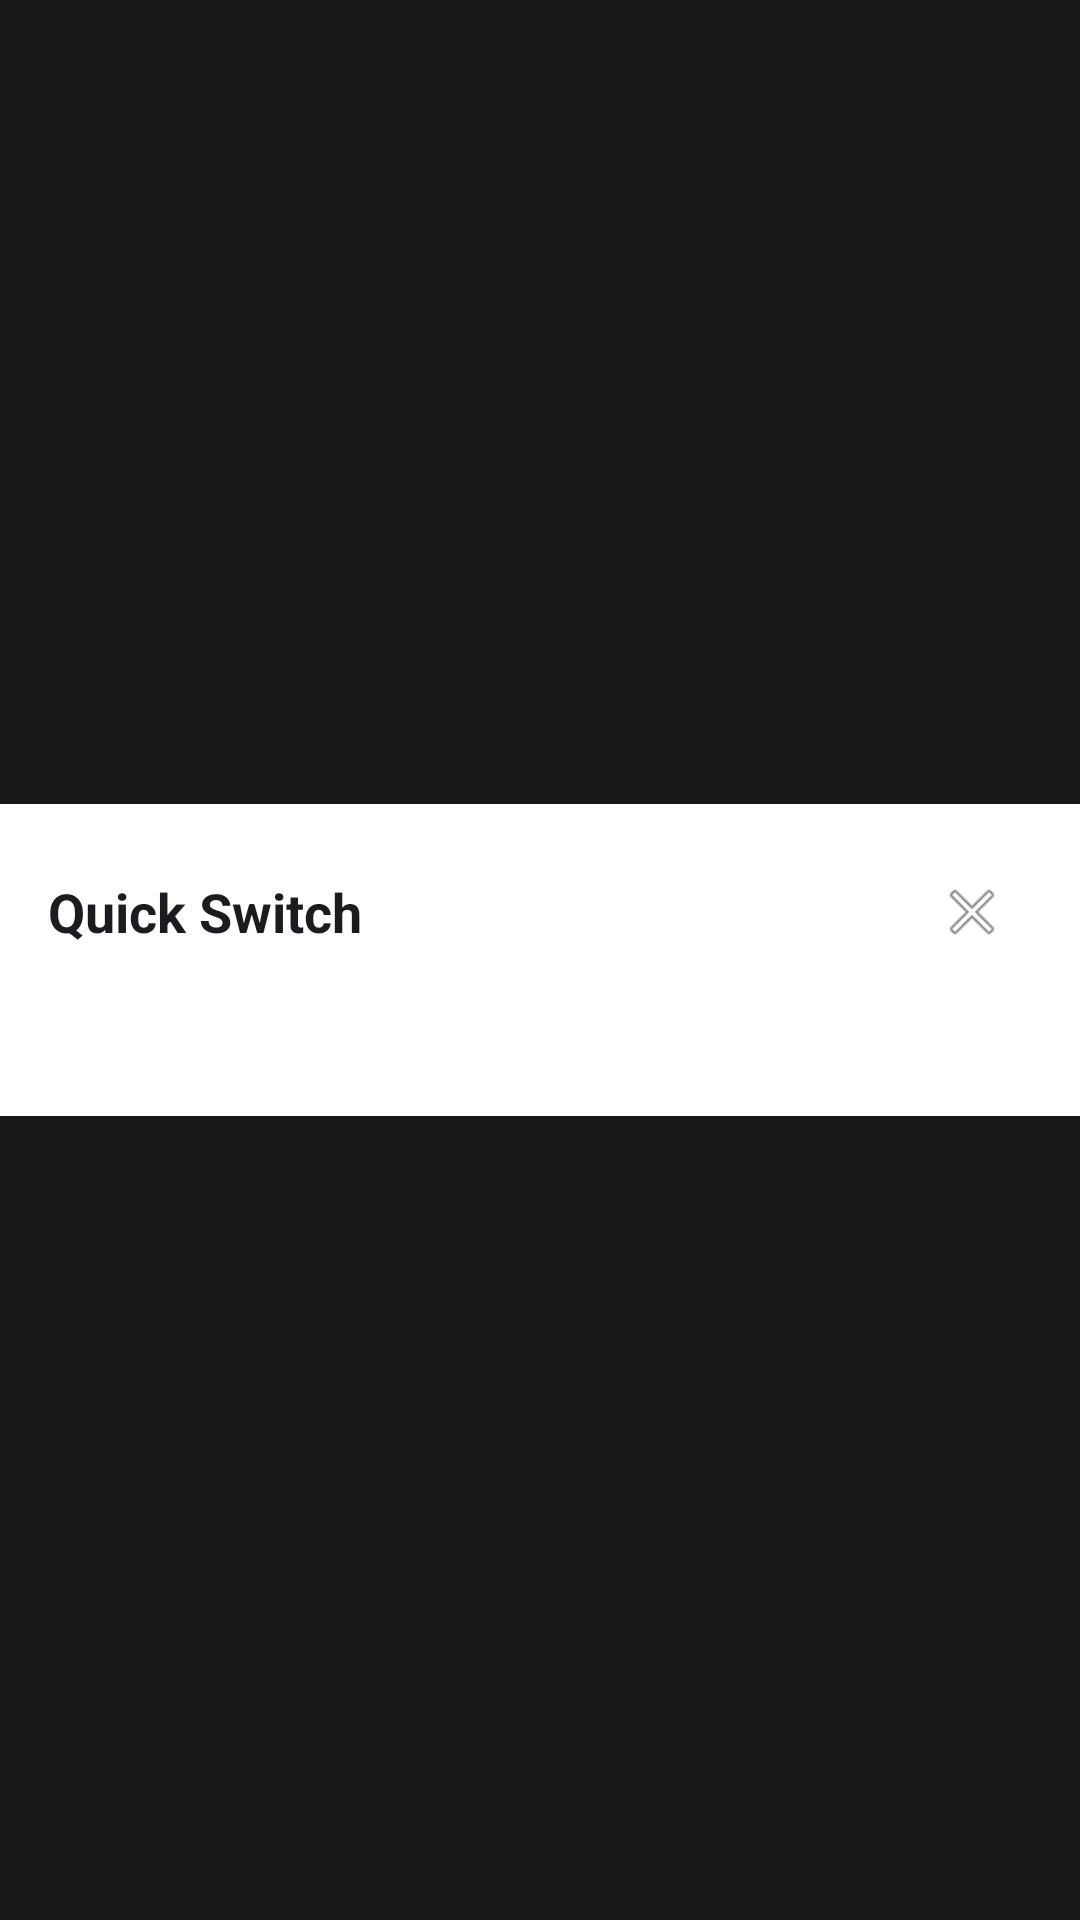

Icon bounding boxes for this 1080px×1920px phone screenshot, format (x1, y1, x2, y2):
Close: (949, 889, 995, 935)
